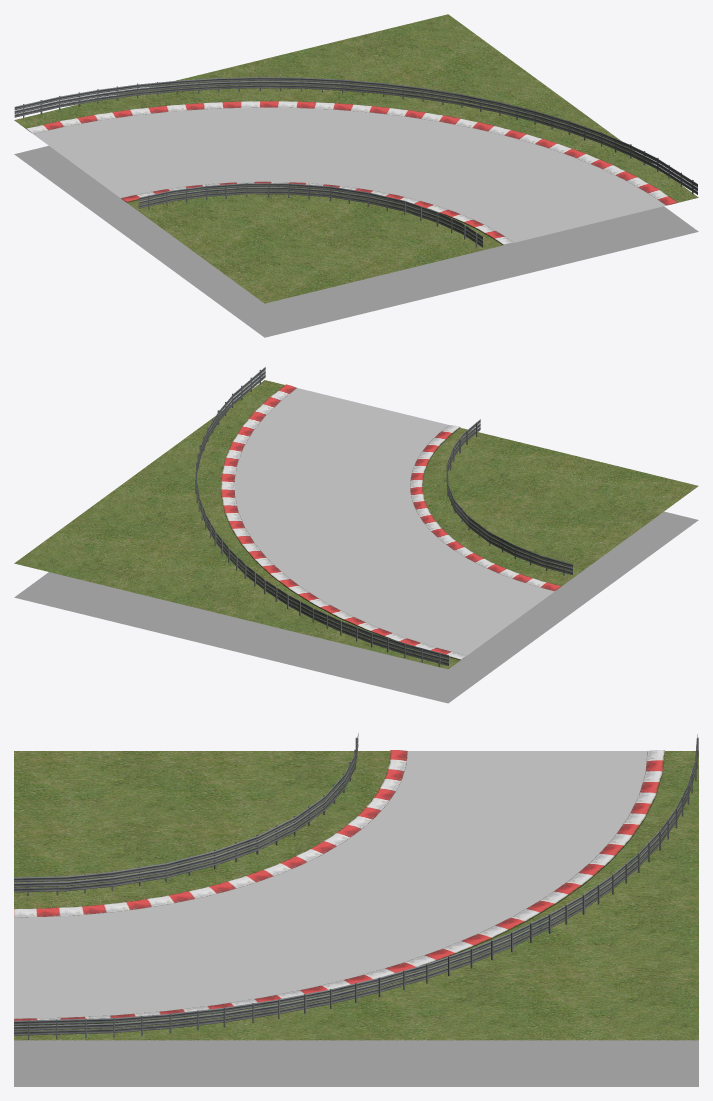
Rendered from Track_Curve_A_Flipped_Mobile.fbx.
The picture shows the model from 3 angles, top to bottom: view 1: azimuth 30°, elevation 25°; view 2: azimuth 150°, elevation 25°; view 3: azimuth 270°, elevation 25°; orthographic projection. The views are drawn at different scales.
Parts seen in each view (by area): view 1: Grass, Road, Snap_Plane_Invisible, Rail_A, Curb_A, Rail_B, Curb_B; view 2: Grass, Road, Snap_Plane_Invisible, Curb_A, Rail_A, Curb_B, Rail_B; view 3: Grass, Road, Snap_Plane_Invisible, Rail_A, Curb_A, Rail_B, Curb_B.
Part boxes in pixels (x1,y1,x2,y2): Grass: (14, 14, 698, 303); Road: (33, 107, 665, 242); Snap_Plane_Invisible: (14, 146, 698, 337); Rail_A: (14, 76, 697, 194); Curb_A: (26, 101, 677, 205); Rail_B: (138, 183, 482, 247); Curb_B: (121, 181, 513, 245); Grass: (14, 380, 698, 669); Road: (234, 388, 554, 655); Snap_Plane_Invisible: (14, 511, 698, 703); Curb_A: (221, 384, 466, 660); Rail_A: (195, 367, 448, 666); Curb_B: (410, 425, 561, 591); Rail_B: (446, 419, 572, 575); Grass: (14, 751, 698, 1040); Road: (14, 751, 647, 1018); Snap_Plane_Invisible: (14, 1040, 698, 1086); Rail_A: (14, 734, 698, 1039); Curb_A: (14, 750, 664, 1025); Rail_B: (14, 733, 358, 895); Curb_B: (14, 750, 407, 917).
Size of the model in its own units: 40 by 4.24 by 40.01.
